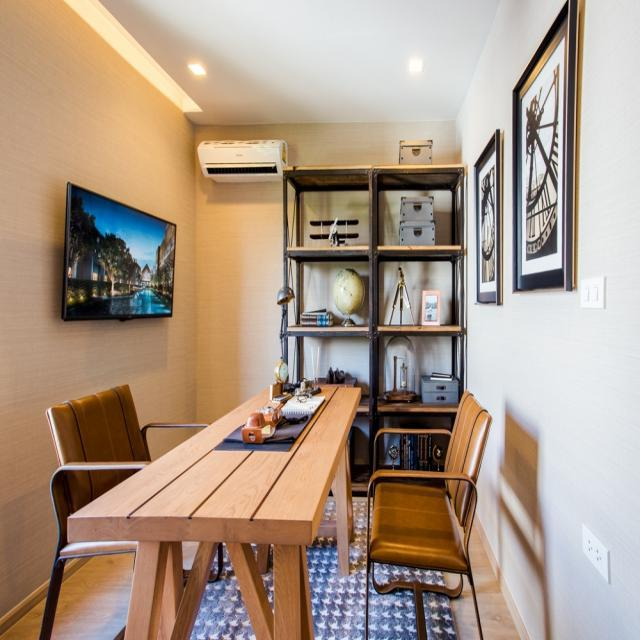table: (60, 353, 372, 561)
